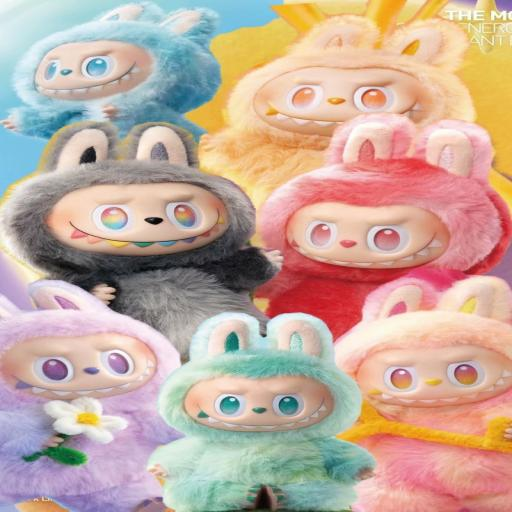labubu: (21, 144, 264, 275), (208, 308, 366, 484), (294, 156, 496, 279), (270, 17, 468, 120), (25, 17, 223, 107), (34, 282, 178, 389)
